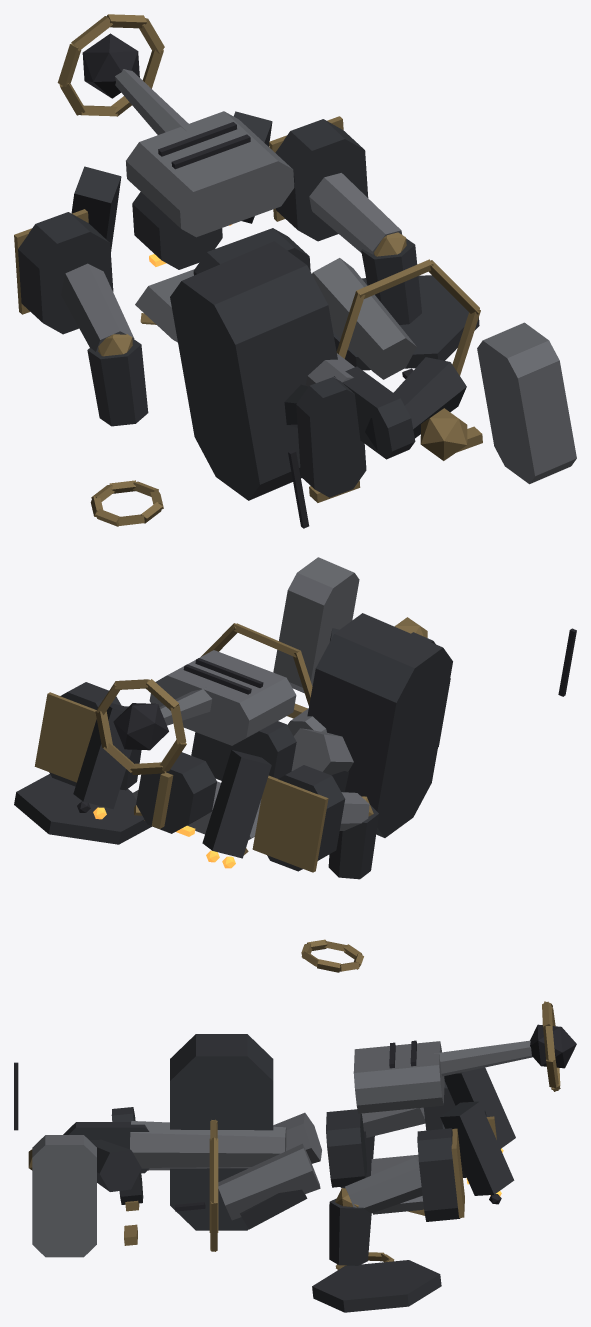
Rendered from Wreck_Aegis_Paladin.fbx.
3 views of the same model, one above another, from view 1: azimuth 30°, elevation 25°; view 2: azimuth 150°, elevation 25°; view 3: azimuth 270°, elevation 25° (orthographic). The views are drawn at different scales.
Parts seen in each view (by area): view 1: Wreck_Aegis_Paladin; view 2: Wreck_Aegis_Paladin; view 3: Wreck_Aegis_Paladin.
Part boxes in pixels (left/top/right/bottom): Wreck_Aegis_Paladin: left=14, top=14, right=576, bottom=528; Wreck_Aegis_Paladin: left=14, top=557, right=576, bottom=972; Wreck_Aegis_Paladin: left=14, top=1001, right=576, bottom=1312.
Bounding box in the file's own units: 1.52 × 1.42 × 2.36.
